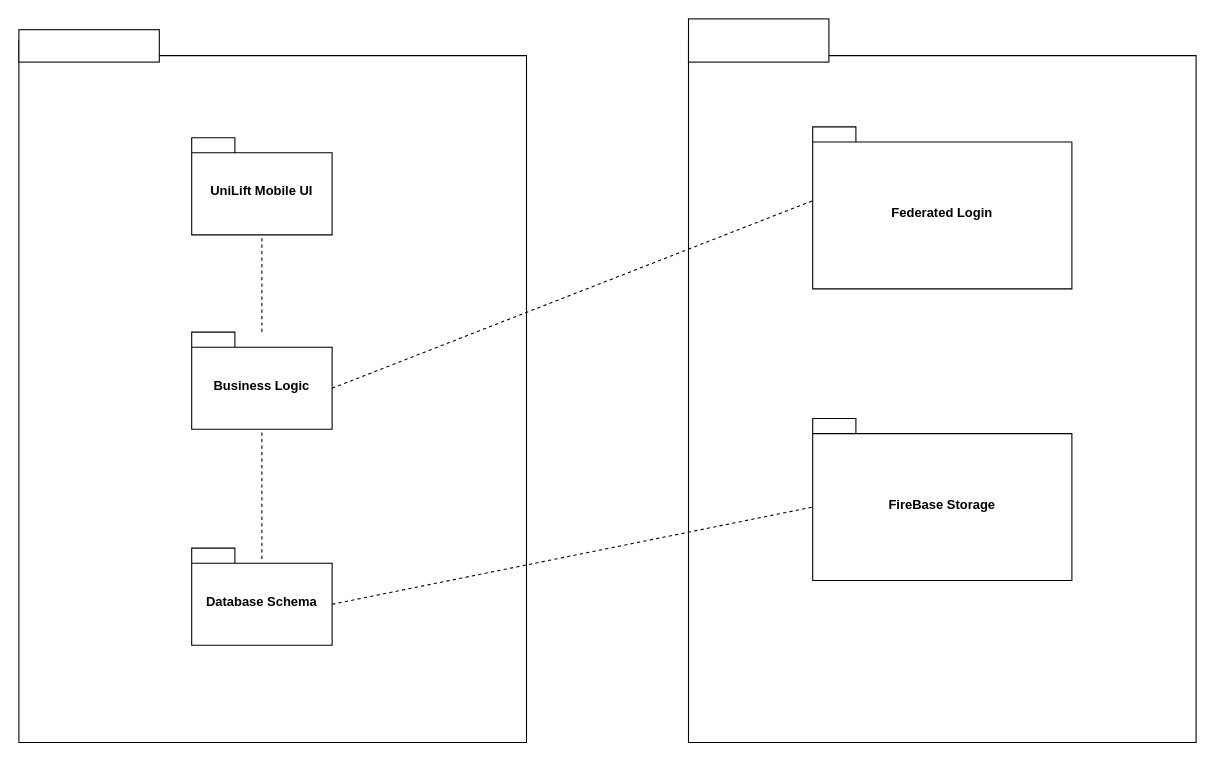
This 1215x761 diagram has some shape labels left out. The centre of each missing label's shape, as x and y in pixels:
"External Services" belongs at point 758,40.
"UniLift" belongs at point 88,45.
